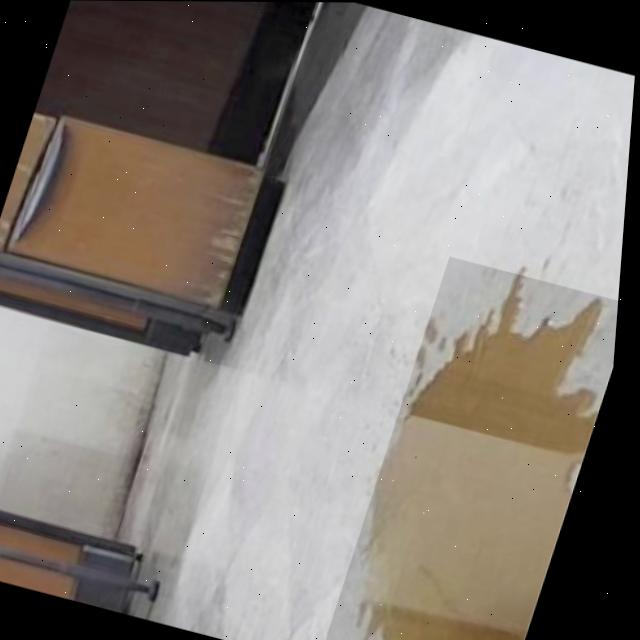spillage: (376, 272, 606, 640)
